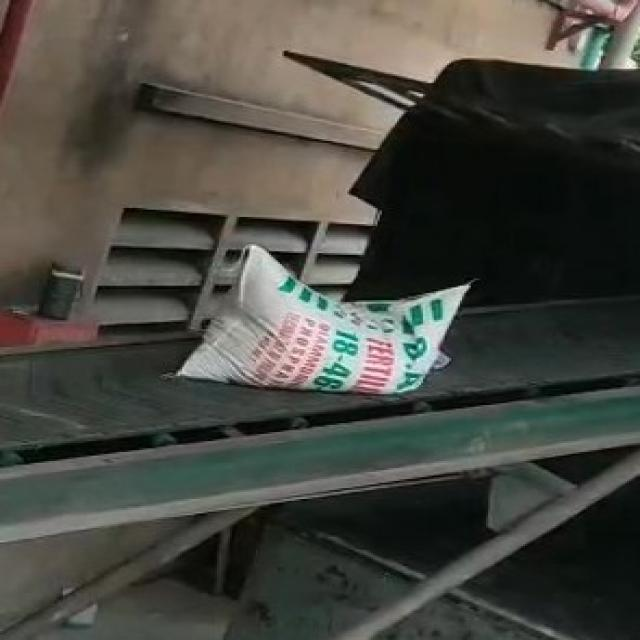gunny_bag: (178, 246, 471, 395)
